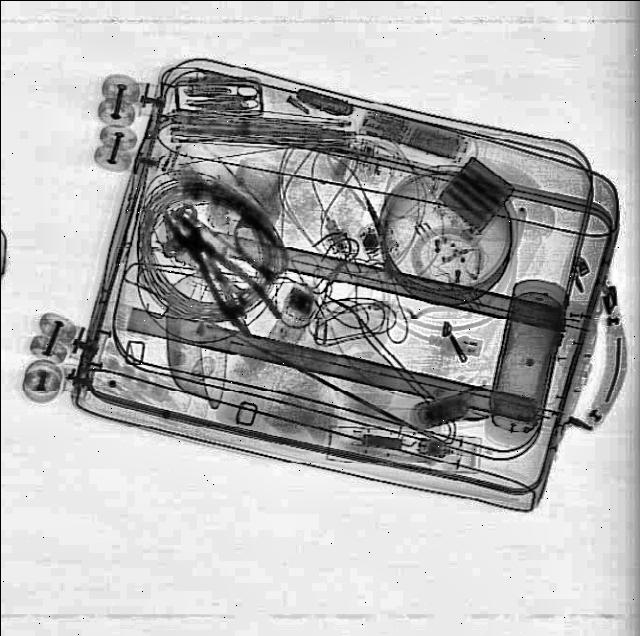Pliers: (150, 197, 286, 339)
